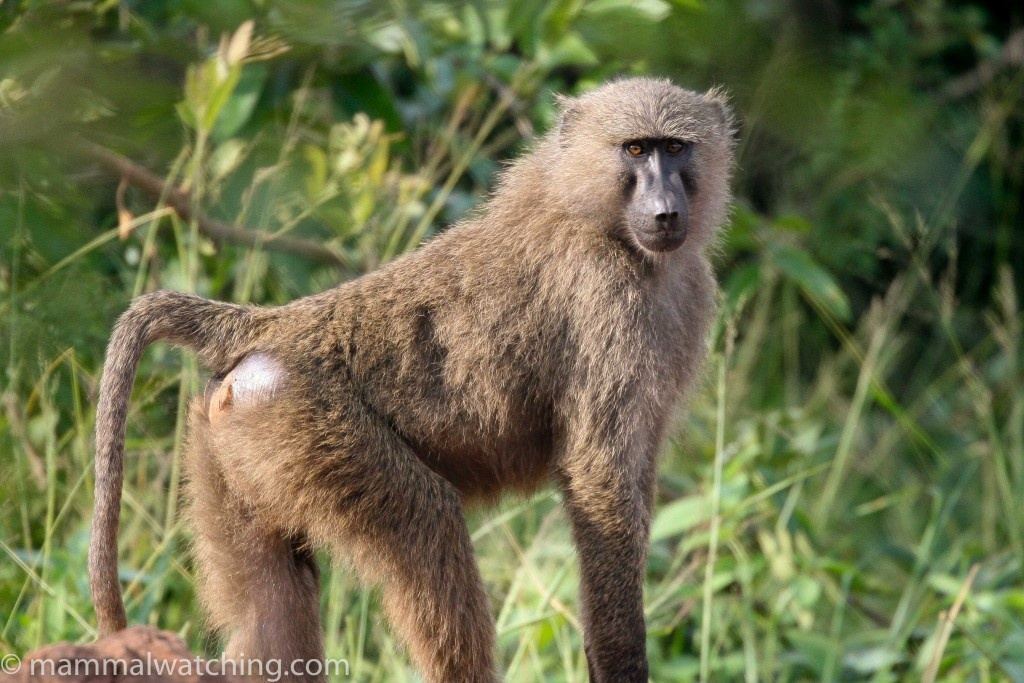monkey: (82, 64, 749, 683)
